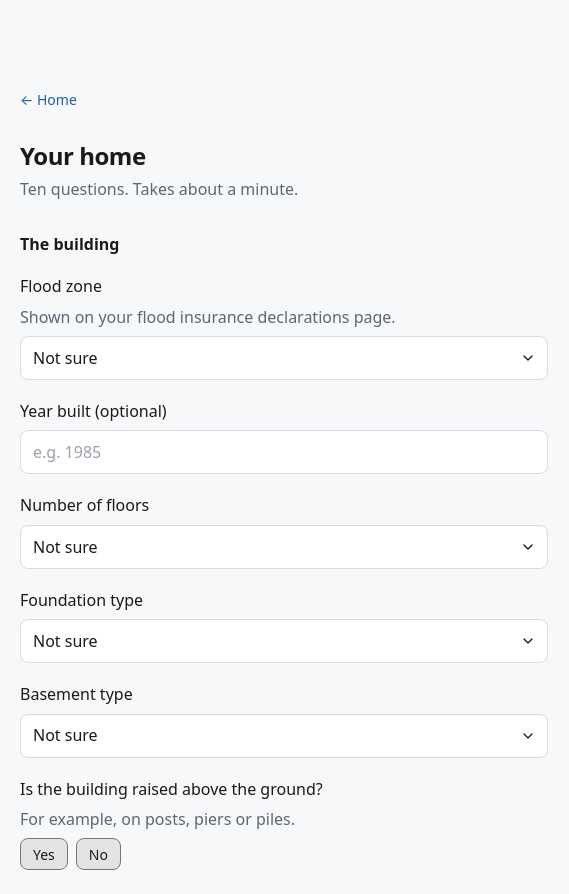
Test: app flow › shows an error with Try again, which resends the same request
Earlier steps of the test are not shown.
Click the radio button labelled "No" at [98, 854], box [76,838,121,870]
(page scrolled)
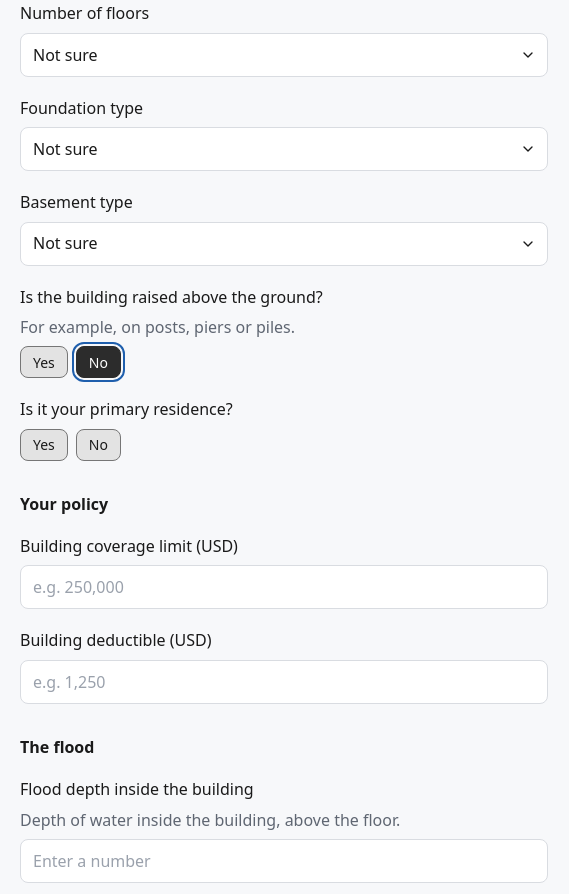
Click the radio button labelled "Yes" below "Is it your primary residence?" at [44, 445], box [20,429,68,461]
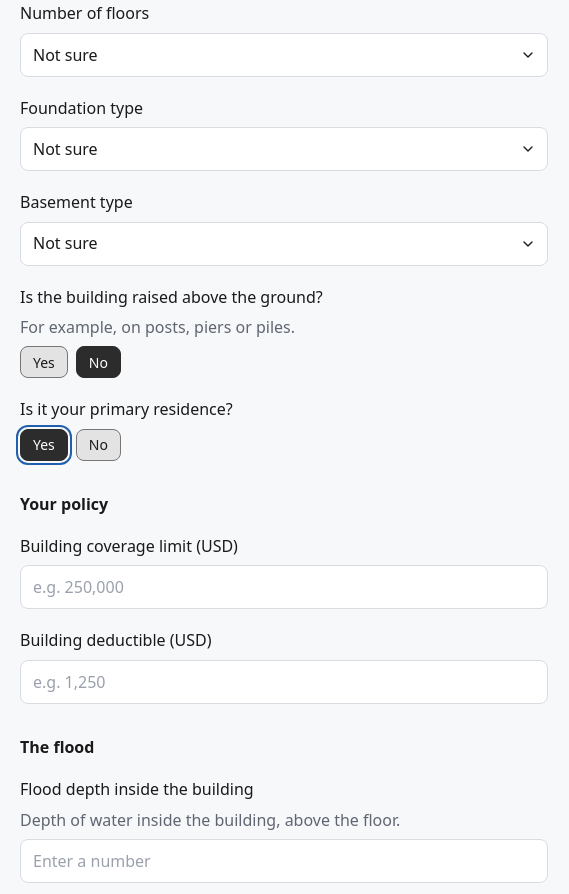
Type "250,000" into the field labelled "Building coverage limit (USD)" at [284, 588], box [20,566,548,610]
Type "1250" into the field labelled "Building deductible (USD)" at [284, 682], box [20,660,548,704]
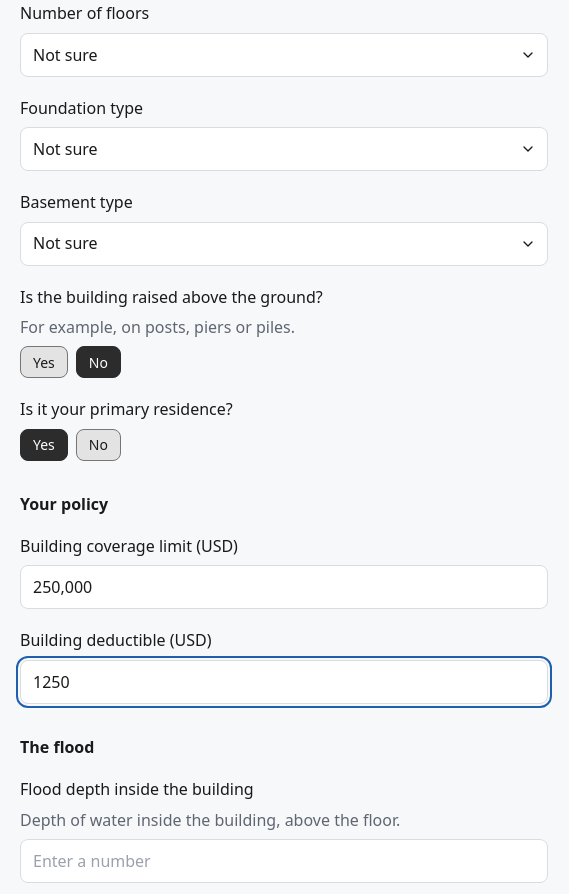
Type "12" into the field labelled "Flood depth inside the building" at [284, 861], box [20,839,548,883]
(page scrolled)
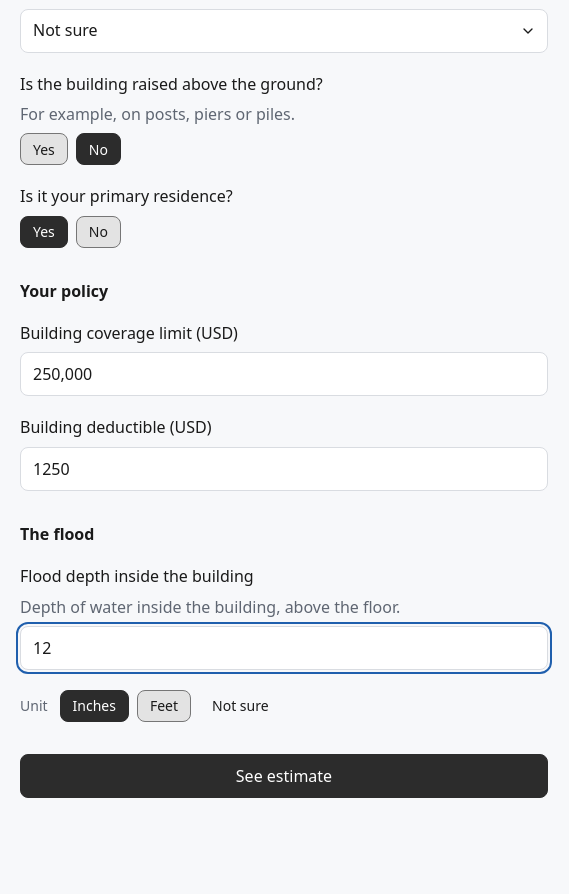
Click the button "See estimate" at [284, 776], box [20,754,548,798]
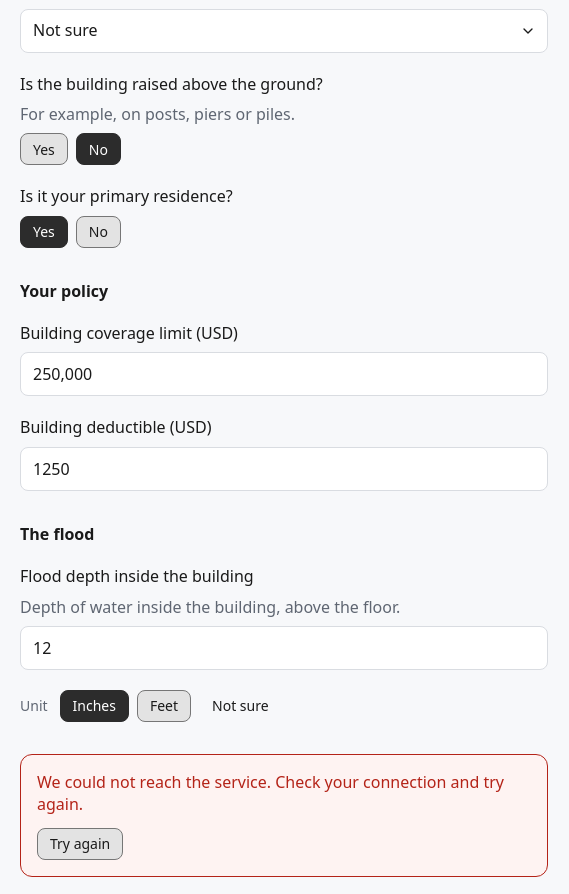
expect the message shows "could not reach the service": met, box [37,771,504,815]
Click the button "Try again" at [80, 844], box [37,828,123,860]
(page scrolled)
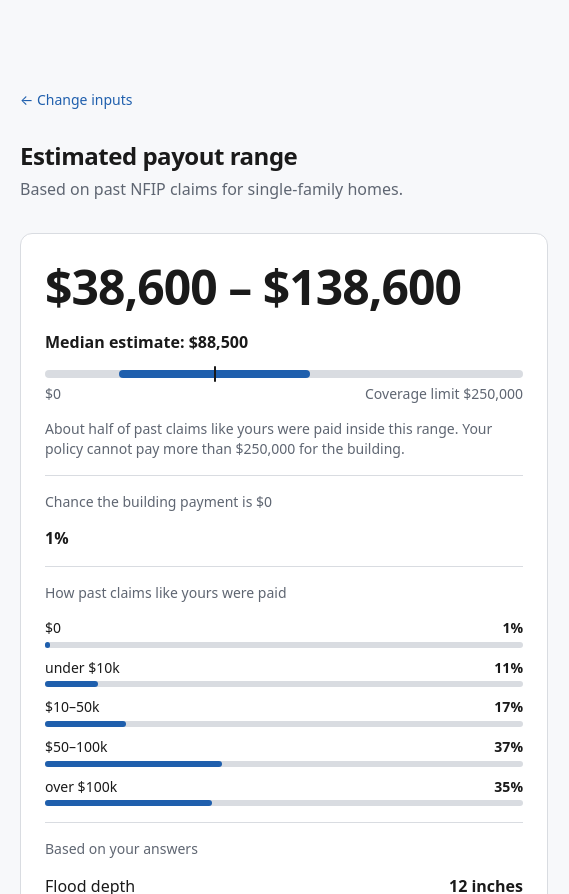
expect the text "$38,600 – $138,600" is shown: met, box [45,258,523,315]
